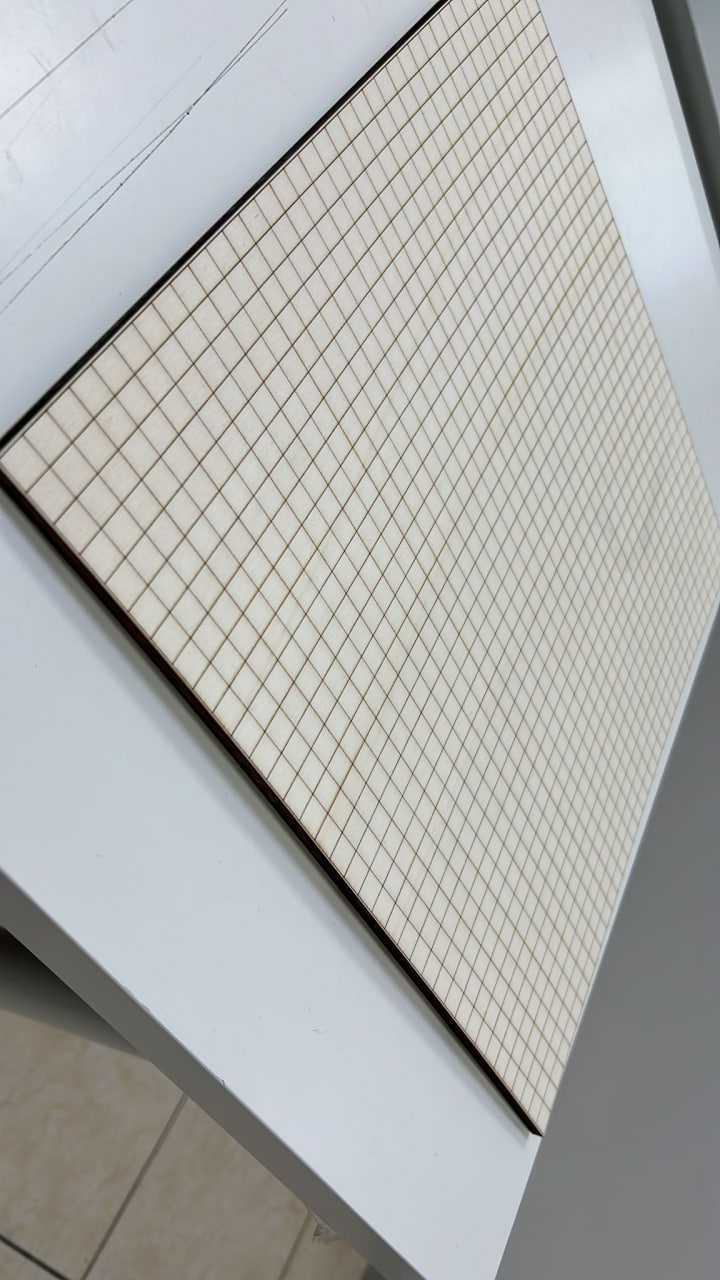grid: (7, 2, 720, 1148)
